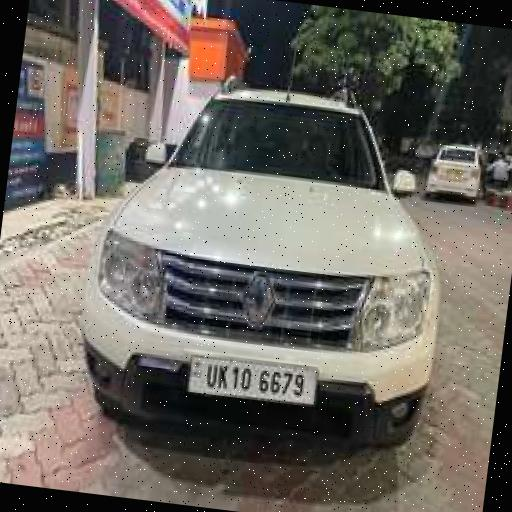license_plate`: (185, 352, 316, 402)
